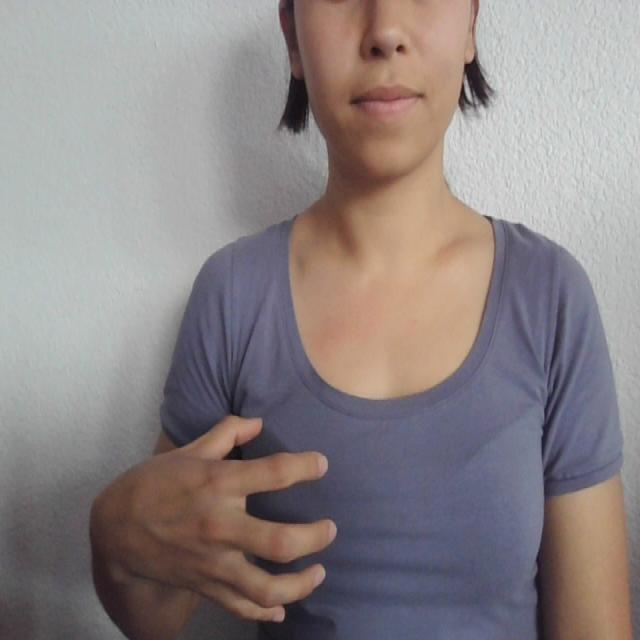Anne: (116, 410, 541, 640)
